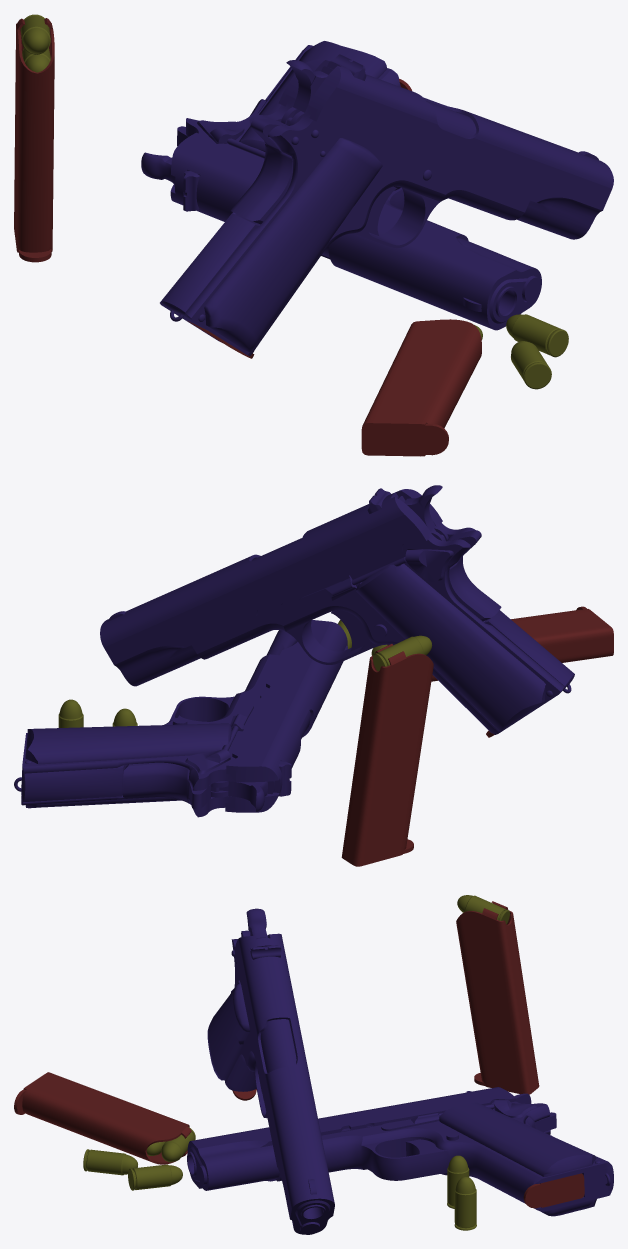
File: Colt m1911 Pistol.fbx
3 renders of one model, top to bottom at view 1: azimuth 30°, elevation 25°; view 2: azimuth 150°, elevation 25°; view 3: azimuth 270°, elevation 25°, orthographic. The views are drawn at different scales.
Parts seen in each view (by area): view 1: colt, colt001, mag003, mag002, colt016pistol_low002, colt016pistol_low003, colt016pistol_low007; view 2: colt, colt001, mag002, mag003, colt016pistol_low007, colt016pistol_low; view 3: colt001, colt, mag002, mag003, mag001, colt016pistol_low002, colt016pistol_low, colt016pistol_low003, colt016pistol_low007, colt016pistol_low001, colt016pistol_low004.
Boxes of the visible parts, x1,y1,x2,y2 form: colt: [160, 54, 613, 356]; colt001: [141, 41, 541, 330]; mag003: [361, 319, 481, 456]; mag002: [14, 18, 54, 262]; colt016pistol_low002: [506, 314, 568, 357]; colt016pistol_low003: [511, 341, 551, 389]; colt016pistol_low007: [20, 14, 50, 54]; colt: [100, 485, 574, 734]; colt001: [14, 620, 347, 817]; mag002: [341, 644, 433, 866]; mag003: [387, 606, 613, 681]; colt016pistol_low007: [373, 635, 432, 671]; colt016pistol_low: [58, 699, 83, 727]; colt001: [187, 1087, 613, 1216]; colt: [207, 908, 334, 1234]; mag002: [456, 901, 539, 1094]; mag003: [14, 1072, 191, 1164]; mag001: [523, 1173, 584, 1208]; colt016pistol_low002: [128, 1164, 182, 1190]; colt016pistol_low: [454, 1177, 476, 1230]; colt016pistol_low003: [83, 1149, 137, 1175]; colt016pistol_low007: [457, 895, 509, 924]; colt016pistol_low001: [447, 1155, 469, 1208]; colt016pistol_low004: [161, 1127, 195, 1162].
Size of what is drawn, in the model's own units: 25.25 by 13.84 by 35.35.
